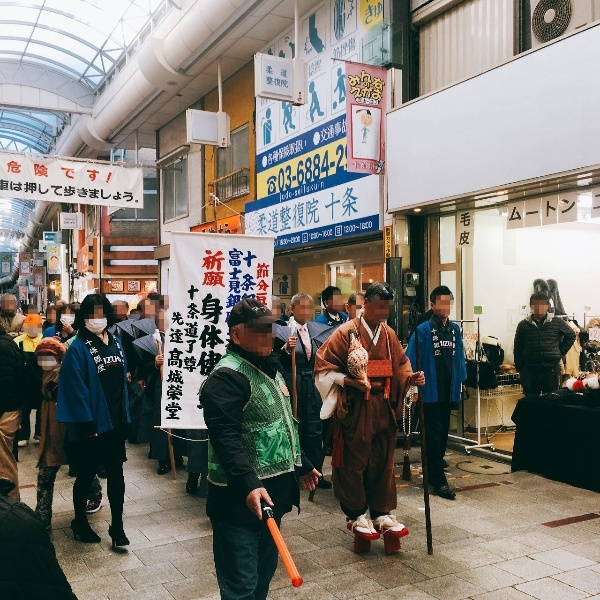text: (209, 250, 224, 382), (177, 311, 188, 421), (229, 247, 240, 331), (193, 286, 201, 375), (170, 311, 176, 421), (203, 250, 208, 382), (257, 263, 272, 307), (273, 197, 288, 239), (289, 197, 304, 239), (305, 197, 320, 239), (244, 250, 256, 300), (258, 197, 272, 239), (337, 185, 352, 223), (305, 150, 320, 187), (323, 185, 336, 223), (273, 136, 288, 166), (289, 136, 304, 166), (187, 286, 192, 375), (337, 36, 352, 65), (115, 334, 128, 367), (386, 228, 400, 258), (97, 160, 113, 185), (321, 118, 336, 144), (17, 160, 32, 185), (33, 160, 48, 185), (49, 160, 64, 185), (65, 160, 80, 185), (81, 160, 96, 185), (353, 68, 368, 93), (369, 68, 384, 93), (513, 198, 528, 223), (529, 198, 544, 223), (545, 198, 560, 223), (561, 198, 576, 223), (1, 179, 16, 203), (17, 179, 32, 203), (33, 179, 48, 203), (49, 179, 64, 203), (65, 179, 80, 203), (81, 179, 96, 203), (97, 179, 112, 203), (113, 179, 128, 203), (369, 5, 385, 27), (97, 337, 106, 375), (241, 247, 245, 331), (321, 150, 330, 187), (452, 329, 464, 356), (278, 164, 288, 194), (305, 179, 320, 197), (353, 185, 360, 223), (308, 58, 320, 80), (337, 118, 347, 144), (297, 150, 304, 187), (209, 218, 224, 235), (225, 218, 240, 235), (433, 327, 441, 358), (129, 179, 139, 203), (369, 90, 385, 105), (337, 141, 344, 175), (353, 90, 368, 105), (273, 76, 288, 90), (465, 212, 471, 247), (8, 160, 16, 185), (344, 68, 352, 93), (273, 66, 288, 79), (353, 221, 368, 234), (353, 161, 368, 172), (295, 179, 304, 197), (275, 236, 288, 248), (92, 337, 96, 375), (267, 136, 272, 166), (257, 250, 260, 300), (289, 236, 301, 248), (321, 229, 333, 241), (466, 332, 480, 342), (200, 218, 208, 235), (49, 245, 61, 256), (225, 250, 226, 382), (309, 229, 320, 241), (113, 355, 124, 366), (353, 36, 357, 65), (461, 212, 464, 247), (595, 192, 600, 213), (344, 221, 352, 234), (280, 190, 288, 203), (261, 99, 272, 108), (1, 256, 16, 262), (289, 164, 292, 194), (369, 99, 384, 105), (104, 355, 112, 366), (333, 36, 336, 65), (266, 76, 272, 90), (369, 161, 376, 172), (20, 256, 32, 262), (439, 340, 448, 348), (292, 176, 304, 182), (321, 179, 325, 197), (365, 5, 368, 27), (267, 66, 272, 79), (305, 136, 307, 166), (55, 331, 64, 337), (369, 221, 373, 234), (315, 309, 320, 319), (330, 161, 336, 169), (359, 98, 368, 103), (321, 58, 323, 80), (65, 221, 75, 225), (328, 321, 336, 326), (289, 190, 292, 203), (65, 218, 76, 221), (293, 193, 304, 196), (449, 340, 453, 348), (431, 327, 432, 358), (49, 235, 55, 240), (350, 90, 352, 105), (385, 68, 386, 93), (577, 198, 578, 223), (44, 245, 48, 251), (46, 245, 48, 256), (241, 218, 242, 235), (45, 235, 48, 240), (289, 76, 290, 90), (321, 309, 322, 319), (63, 221, 64, 225), (367, 100, 368, 102)
